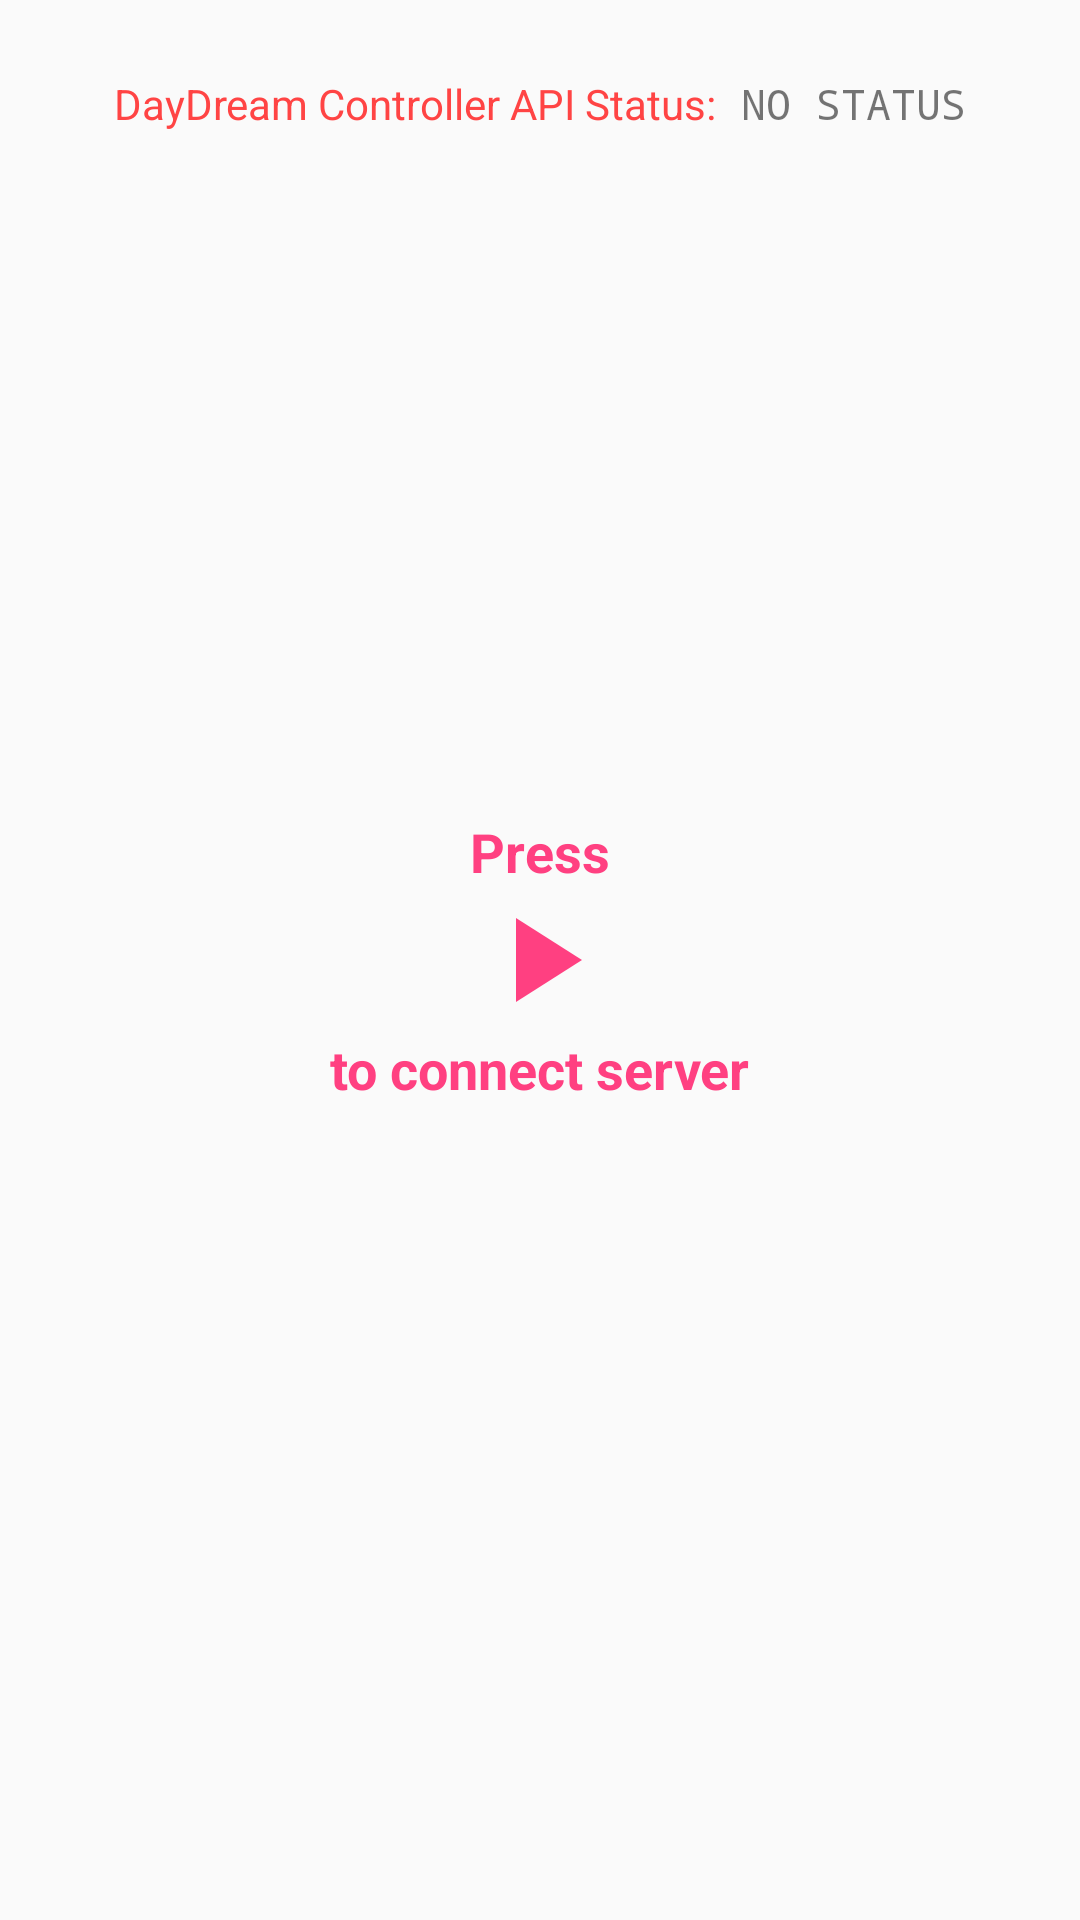

Point at icon controls on the screen. Image size 1080 x 1920, points as (x=x, y=y).
Play button: (x=549, y=960)
